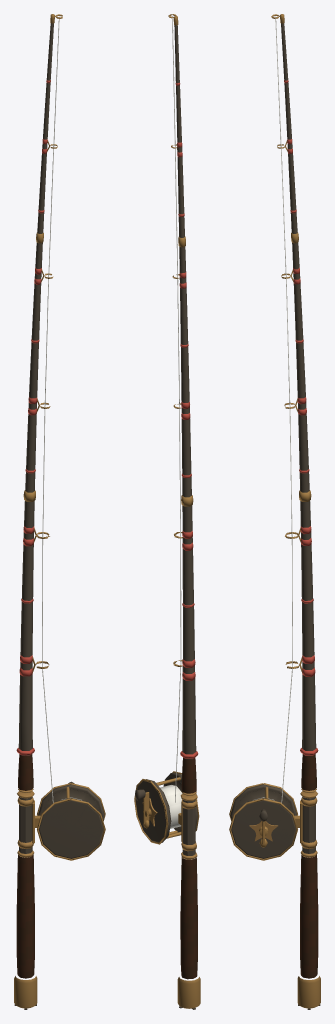
Rendered from tool_fishing_rod_heavy_sport_a.glb.
3 views of the same model, side by side, from view 1: azimuth 90°, elevation 25°; view 2: azimuth 210°, elevation 25°; view 3: azimuth 270°, elevation 25° (orthographic).
Parts seen in each view (by area): view 1: tool_fishing_rod_heavy_sport_a_mesh, rod_reel_spool; view 2: tool_fishing_rod_heavy_sport_a_mesh, rod_reel_line_coil, rod_reel_crank_arm, rod_reel_spool; view 3: tool_fishing_rod_heavy_sport_a_mesh, rod_reel_spool.
Boxes of the visible parts, x1,y1,x2,y2 form: tool_fishing_rod_heavy_sport_a_mesh: (14,16,105,1009); rod_reel_spool: (42,789,99,812); tool_fishing_rod_heavy_sport_a_mesh: (134,16,200,1009); rod_reel_line_coil: (160,785,182,828); rod_reel_crank_arm: (143,792,149,828); rod_reel_spool: (163,776,181,832); tool_fishing_rod_heavy_sport_a_mesh: (229,16,320,1009); rod_reel_spool: (235,789,292,812).
Bounding box in the file's own units: 0.154 × 3.04 × 0.2548.
